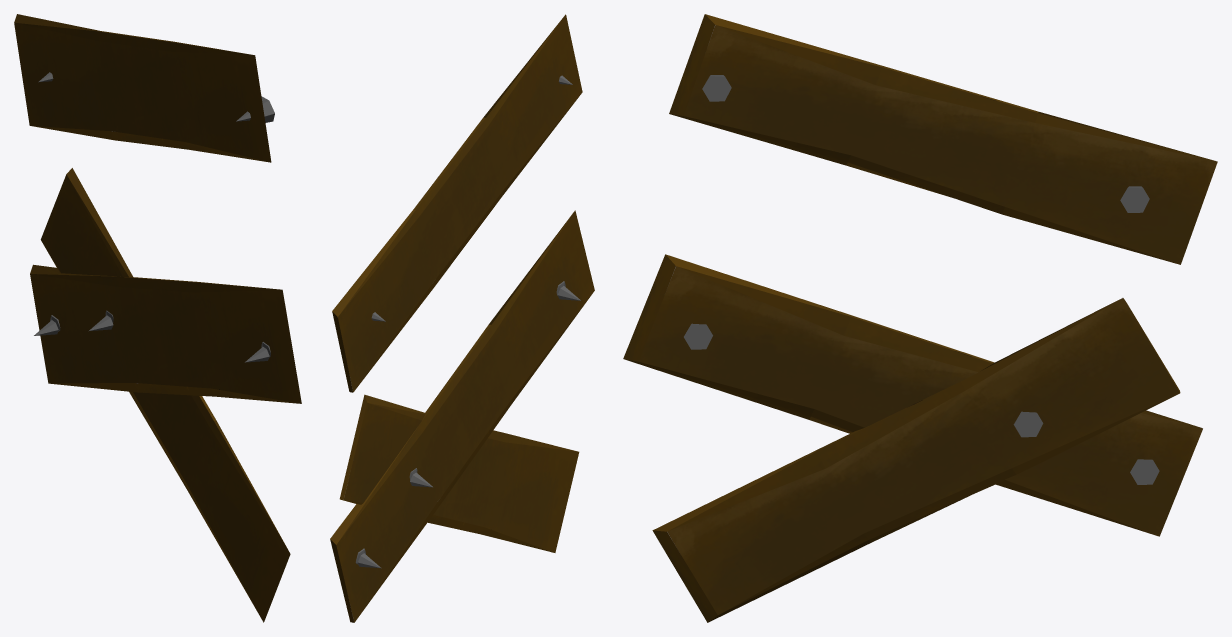
The model's file is window-planks.fbx.
The picture shows the model from 3 angles, left to right: view 1: azimuth 30°, elevation 25°; view 2: azimuth 150°, elevation 25°; view 3: azimuth 270°, elevation 25°; orthographic projection. The views are drawn at different scales.
Parts seen in each view (by area): view 1: Cube.068; view 2: Cube.068; view 3: Cube.068.
Boxes of the visible parts, x1,y1,x2,y2 form: Cube.068: (14, 14, 301, 622); Cube.068: (330, 14, 594, 622); Cube.068: (623, 14, 1217, 622).
Size of the model in its own units: 3.15 by 50.64 by 45.2.
